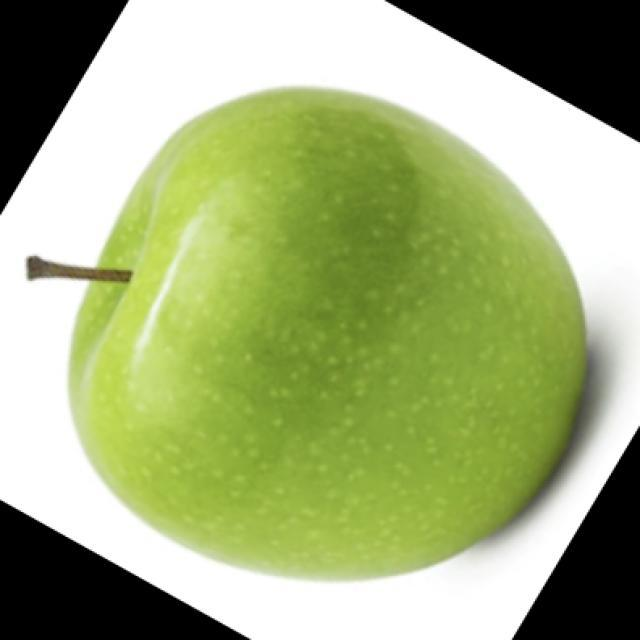Fresh Apple: (69, 72, 587, 580)
